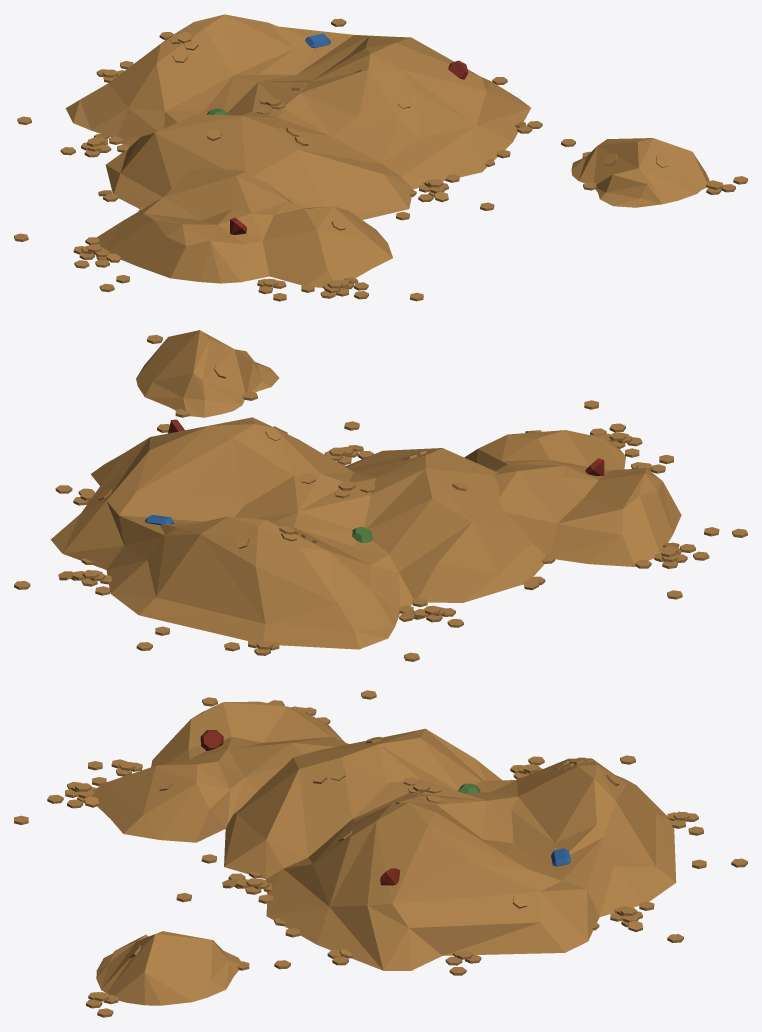
The model's file is SM_Prop_TreasurePile_03.glb.
3 views of the same model, one above another, from view 1: azimuth 30°, elevation 25°; view 2: azimuth 150°, elevation 25°; view 3: azimuth 270°, elevation 25° (orthographic). The views are drawn at different scales.
Visible parts, largest first — view 1: SM_Prop_TreasurePile_03; view 2: SM_Prop_TreasurePile_03; view 3: SM_Prop_TreasurePile_03.
Part boxes in pixels (x1,y1,x2,y2): SM_Prop_TreasurePile_03: [14, 14, 747, 301]; SM_Prop_TreasurePile_03: [14, 330, 747, 661]; SM_Prop_TreasurePile_03: [14, 690, 747, 1017].
Size of the model in its own units: 0.039 by 0.00502 by 0.0372.
